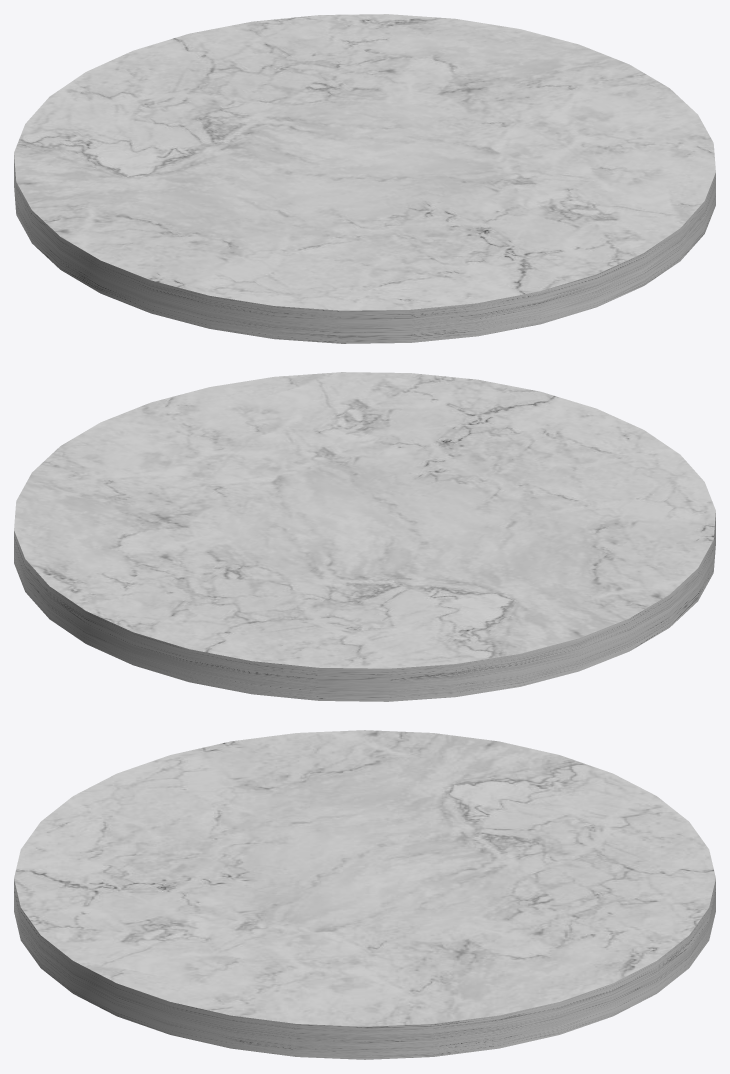
The model's file is disk_1.glb.
The picture shows the model from 3 angles, top to bottom: view 1: azimuth 30°, elevation 25°; view 2: azimuth 150°, elevation 25°; view 3: azimuth 270°, elevation 25°; orthographic projection.
Visible parts, largest first — view 1: Cylinder; view 2: Cylinder; view 3: Cylinder.
Boxes of the visible parts, <box> form: Cylinder: <box>14,14,715,343</box>; Cylinder: <box>14,372,715,701</box>; Cylinder: <box>14,730,715,1059</box>.
Bounding box in the file's own units: 30.66 × 1.59 × 30.66.
Materials: 1 (1 with a texture image).
